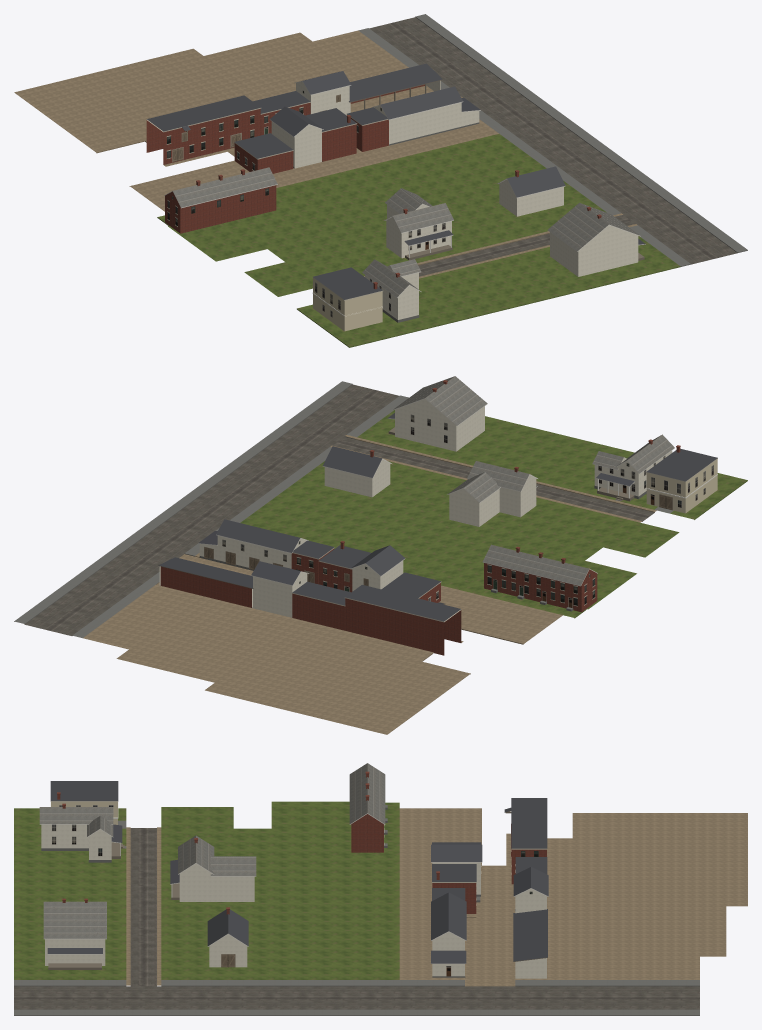
The model's file is sidestreet-southeast.glb.
The picture shows the model from 3 angles, top to bottom: view 1: azimuth 30°, elevation 25°; view 2: azimuth 150°, elevation 25°; view 3: azimuth 270°, elevation 25°; orthographic projection. The views are drawn at different scales.
Visible parts, largest first — view 1: SidestreetSoutheast; view 2: SidestreetSoutheast; view 3: SidestreetSoutheast.
Part boxes in pixels (left/top/right/bottom): SidestreetSoutheast: left=14, top=14, right=747, bottom=347; SidestreetSoutheast: left=14, top=376, right=747, bottom=734; SidestreetSoutheast: left=14, top=763, right=747, bottom=1015.
Bounding box in the file's own units: 95.7 × 10.83 × 139.
8 materials, 8 textured.
